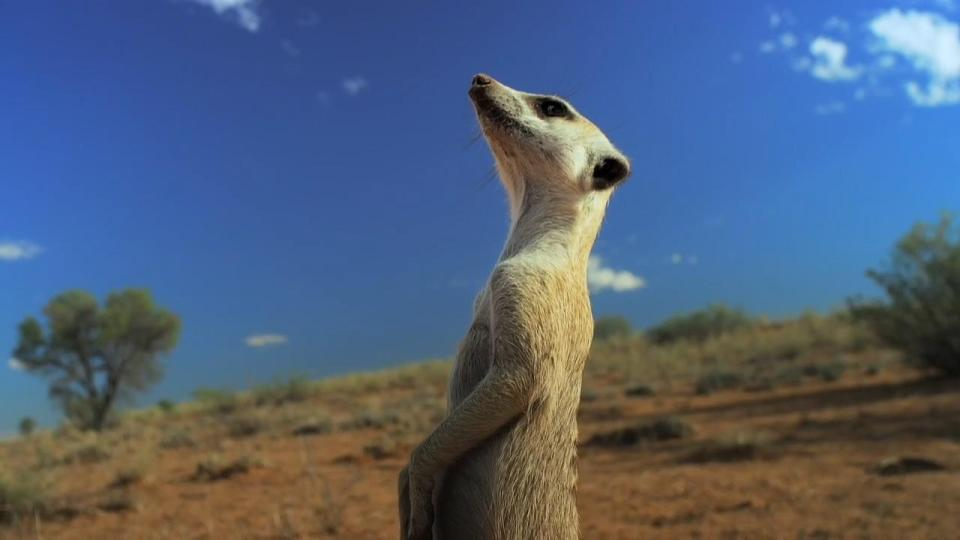meerkat: (380, 56, 663, 540)
